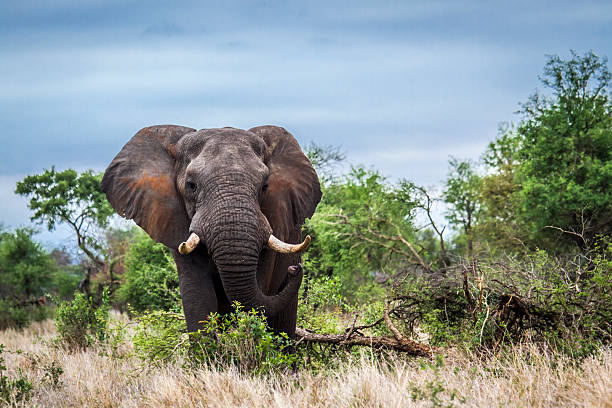africanelephant: (159, 131, 310, 280)
